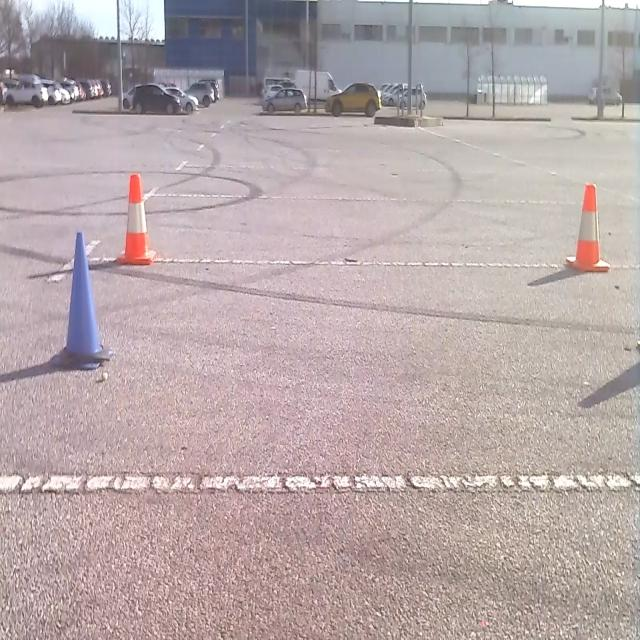blue_cone: (50, 228, 113, 370)
orange_cone: (565, 180, 610, 273), (116, 170, 156, 266)
